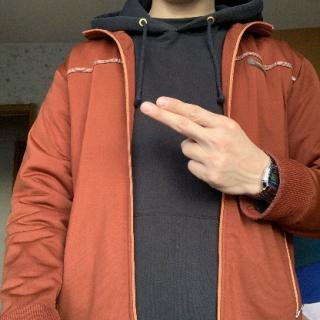AYN: (140, 95, 272, 202)
